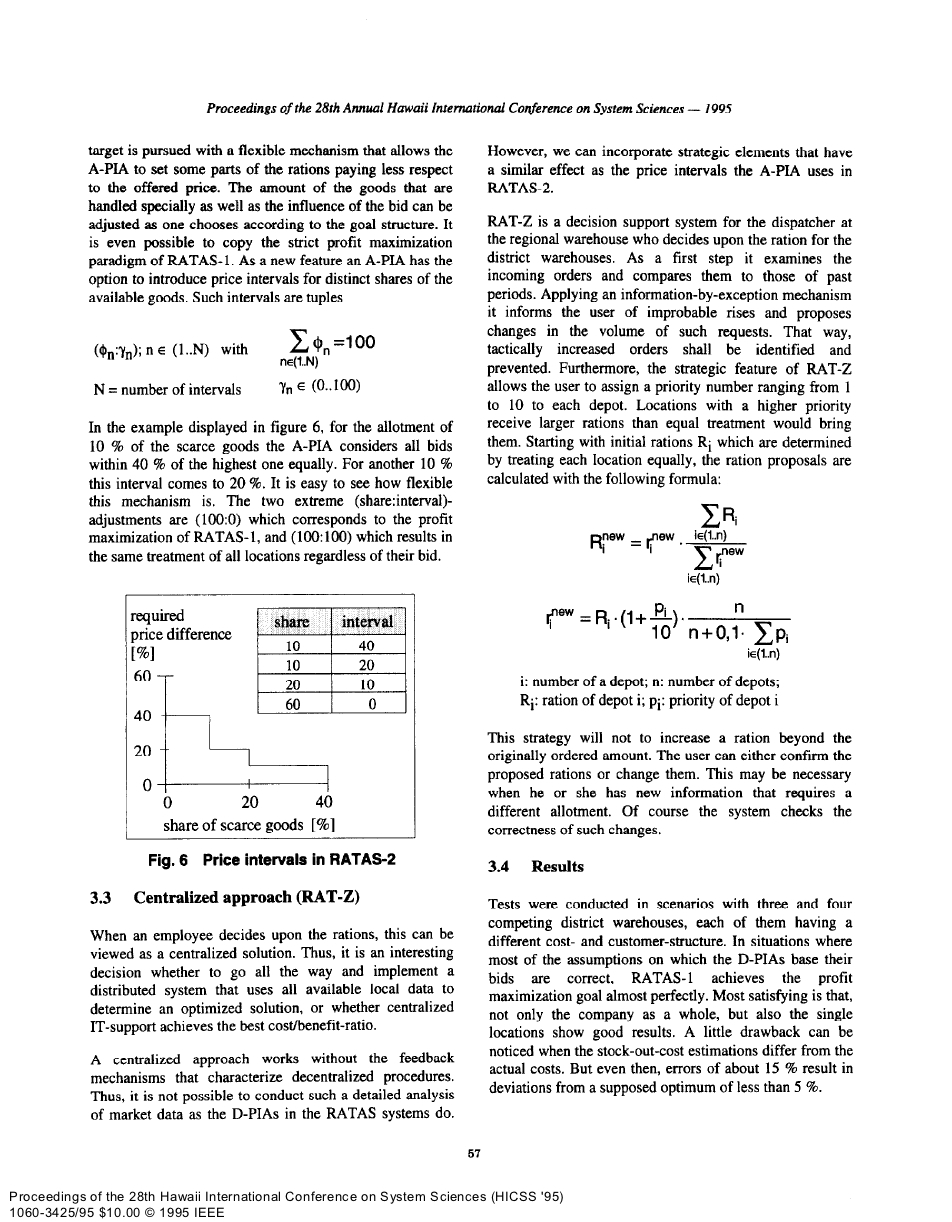figure: (125, 592, 415, 840)
formula: (546, 601, 790, 661), (590, 503, 746, 585), (94, 328, 374, 369)
